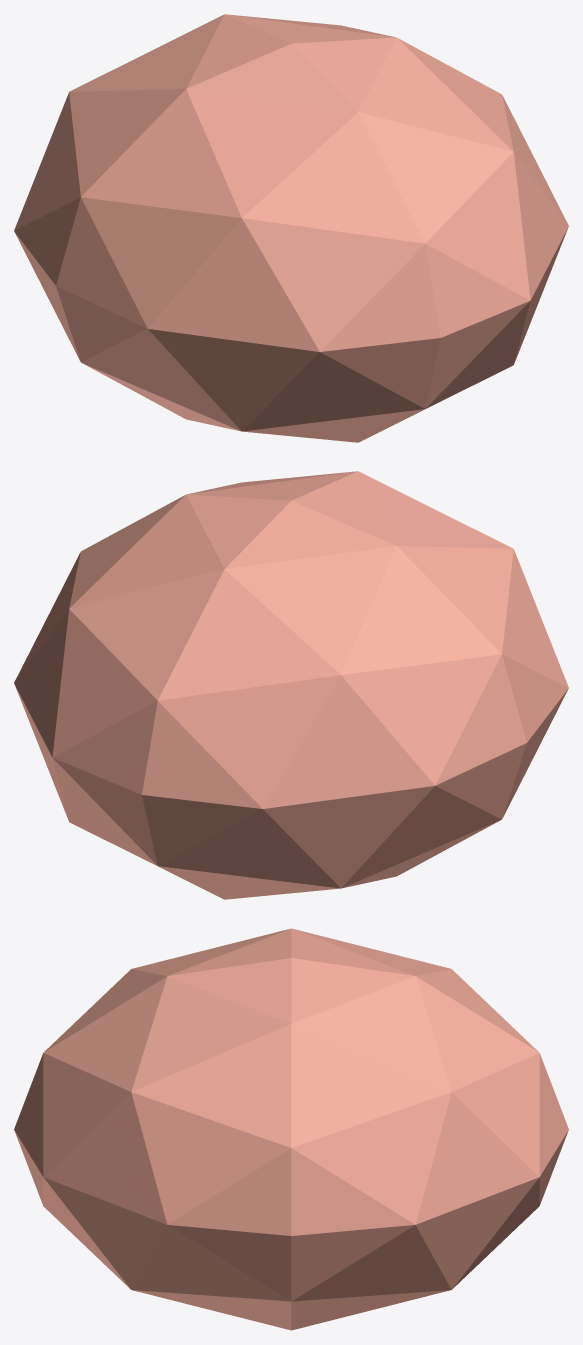
The model's file is cozy-home-interiors-bean-bag-c28c5060.glb.
3 renders of one model, top to bottom at view 1: azimuth 30°, elevation 25°; view 2: azimuth 150°, elevation 25°; view 3: azimuth 270°, elevation 25°, orthographic. The views are drawn at different scales.
Visible parts, largest first — view 1: bean-bag; view 2: bean-bag; view 3: bean-bag.
Boxes of the visible parts, x1,y1,x2,y2 form: bean-bag: [14, 14, 568, 442]; bean-bag: [14, 471, 568, 899]; bean-bag: [14, 928, 568, 1330].
Bounding box in the file's own units: 0.8 × 0.6 × 0.88.
